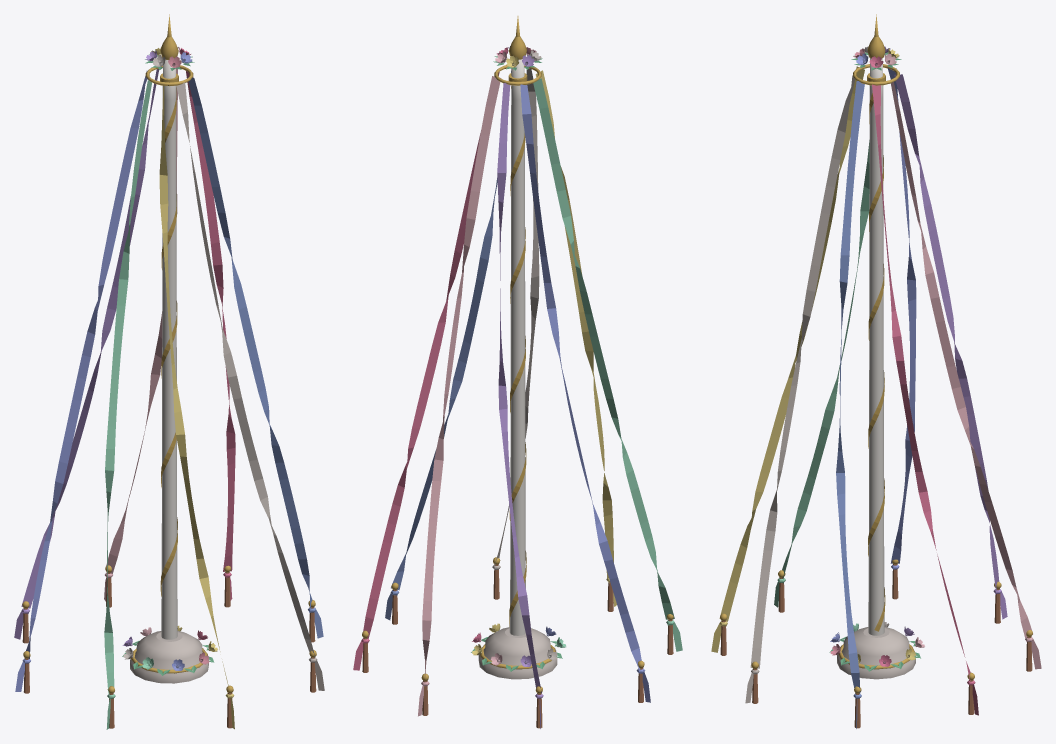
File: maypole_solstice.glb
3 views of the same model, side by side, from view 1: azimuth 30°, elevation 25°; view 2: azimuth 150°, elevation 25°; view 3: azimuth 270°, elevation 25° (orthographic).
Parts seen in each view (by area): view 1: maypole_solstice; view 2: maypole_solstice; view 3: maypole_solstice.
Boxes of the visible parts, left/top/right/bottom form: maypole_solstice: left=14, top=14, right=324, bottom=729; maypole_solstice: left=353, top=16, right=682, bottom=728; maypole_solstice: left=711, top=14, right=1041, bottom=728.
Size of what is drawn, in the model's own units: 3 by 6.5 by 3.
